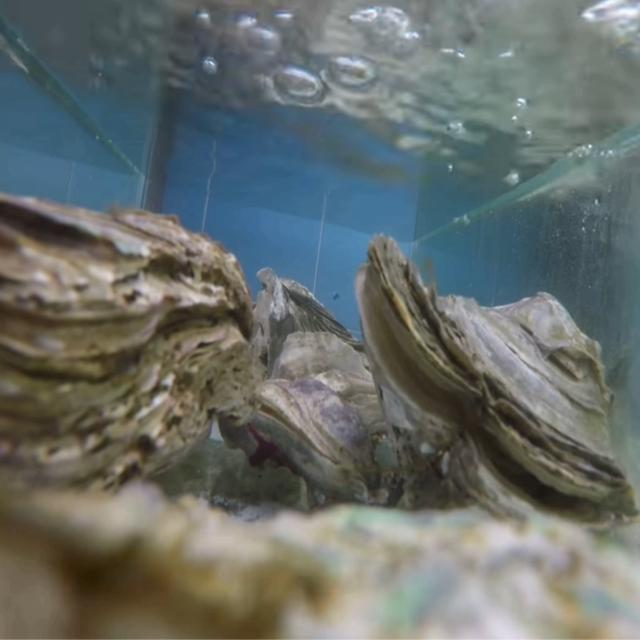Oyster-Closed: (0, 194, 256, 516), (250, 332, 407, 510)
Oyster-Indeterminate: (0, 477, 640, 640), (254, 266, 370, 383)
Oyster-Open: (354, 234, 640, 543)
